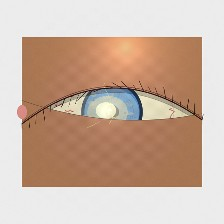corneal_ulcer: (75, 86, 140, 139)
